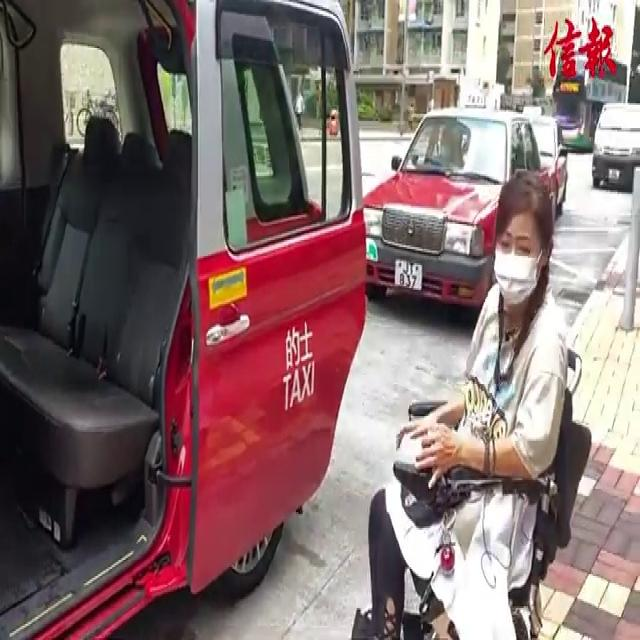wheelchairs: (389, 335, 588, 640)
